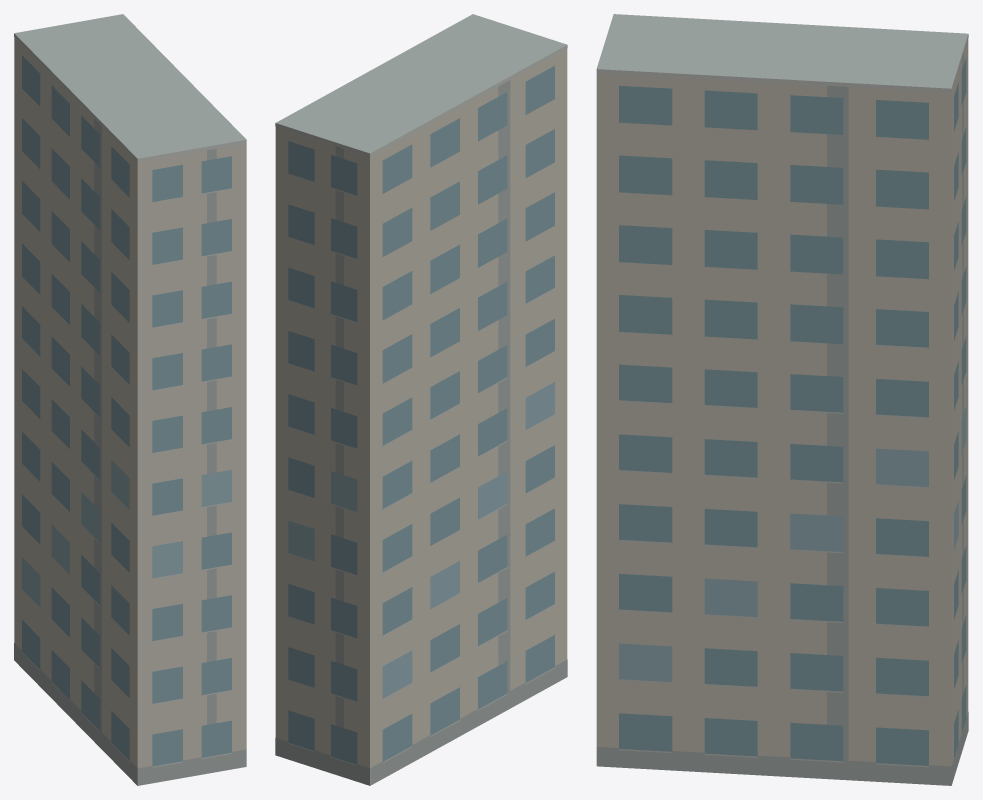
File: residential-d9b03ffc-14ac-47f6-8993-c583a45b0d4c.glb
3 renders of one model, left to right at view 1: azimuth 30°, elevation 25°; view 2: azimuth 150°, elevation 25°; view 3: azimuth 270°, elevation 25°, orthographic. The views are drawn at different scales.
Parts seen in each view (by area): view 1: residential-d9b03ffc-14ac-47f6-8993-c583a45b0d4c.tmp; view 2: residential-d9b03ffc-14ac-47f6-8993-c583a45b0d4c.tmp; view 3: residential-d9b03ffc-14ac-47f6-8993-c583a45b0d4c.tmp.
Part boxes in pixels (x1,y1,x2,y2): residential-d9b03ffc-14ac-47f6-8993-c583a45b0d4c.tmp: [14, 14, 246, 785]; residential-d9b03ffc-14ac-47f6-8993-c583a45b0d4c.tmp: [275, 14, 567, 785]; residential-d9b03ffc-14ac-47f6-8993-c583a45b0d4c.tmp: [596, 14, 968, 785].
Bounding box in the file's own units: 9.65 × 42 × 20.32.
